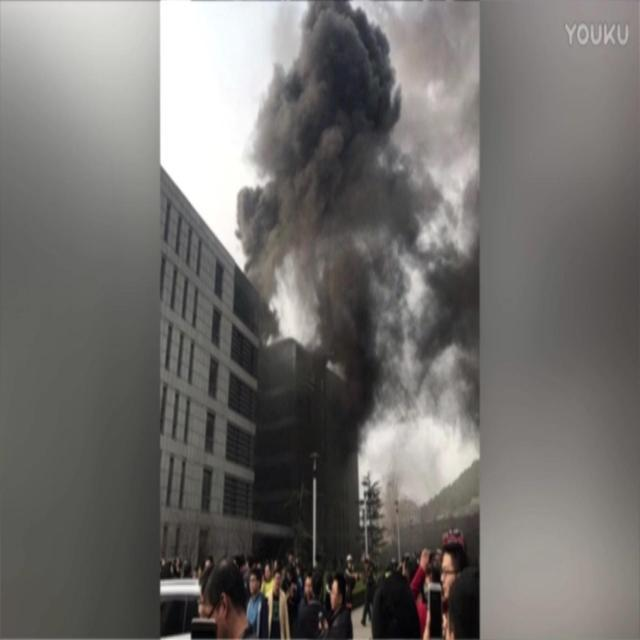Smoke: (230, 0, 480, 476)
